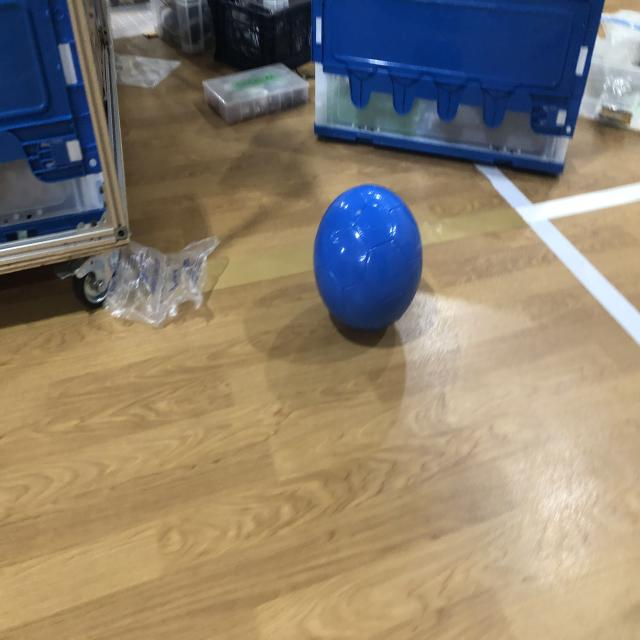blue_ball: (312, 186, 421, 336)
